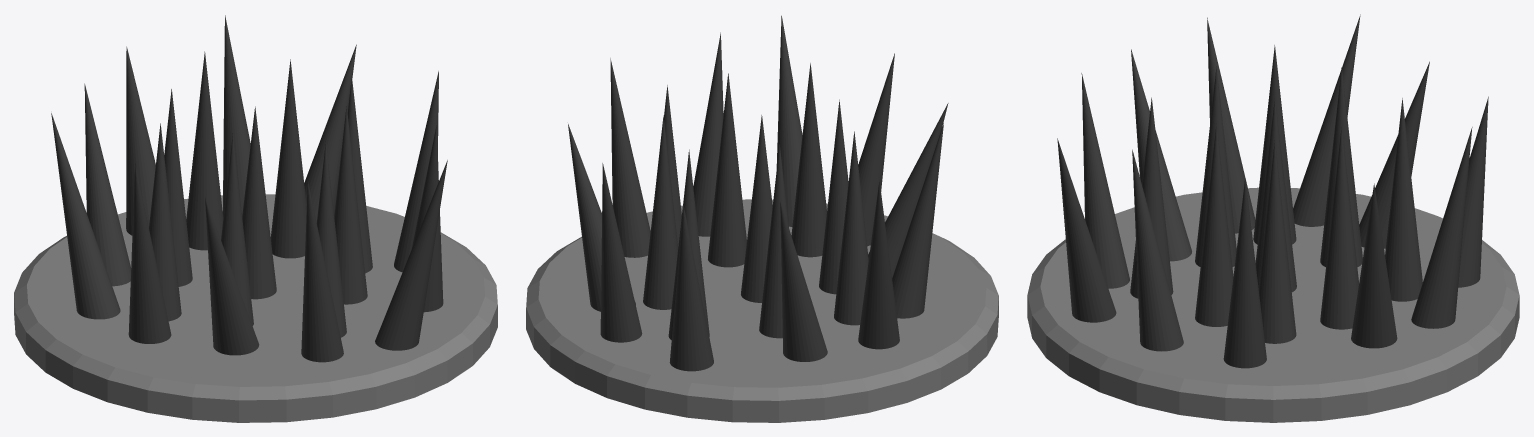
File: Spikes.obj
The picture shows the model from 3 angles, left to right: view 1: azimuth 30°, elevation 25°; view 2: azimuth 150°, elevation 25°; view 3: azimuth 270°, elevation 25°; orthographic projection. The views are drawn at different scales.
Parts seen in each view (by area): view 1: Cube, Cone.016, Cone.013, Cone.012, Cone.014, Cone.015, Cone.004, Cone.003, Cone.005, Cone, Cone.009, Cone.017 (+9 smaller); view 2: Cube, Cone.009, Cone.015, Cone.019, Cone.007, Cone.018, Cone.017, Cone.012, Cone.004, Cone.002, Cone.016, Cone (+9 smaller); view 3: Cube, Cone.018, Cone.008, Cone.012, Cone.009, Cone.019, Cone.005, Cone.013, Cone.001, Cone.014, Cone.006, Cone.016 (+9 smaller).
Boxes of the visible parts, bbox=[...] form: Cube: bbox=[14, 194, 497, 422]; Cone.016: bbox=[51, 113, 120, 319]; Cone.013: bbox=[375, 160, 447, 350]; Cone.012: bbox=[270, 59, 306, 258]; Cone.014: bbox=[301, 181, 343, 362]; Cone.015: bbox=[128, 163, 171, 343]; Cone.004: bbox=[84, 83, 131, 286]; Cone.003: bbox=[205, 197, 259, 355]; Cone.005: bbox=[186, 51, 223, 250]; Cone: bbox=[242, 106, 276, 299]; Cone.009: bbox=[334, 106, 367, 304]; Cone.017: bbox=[126, 46, 155, 235]; Cube: bbox=[526, 199, 998, 422]; Cone.009: bbox=[708, 73, 746, 267]; Cone.015: bbox=[892, 123, 943, 318]; Cone.019: bbox=[610, 58, 650, 257]; Cone.007: bbox=[791, 63, 826, 257]; Cone.018: bbox=[600, 163, 642, 342]; Cone.017: bbox=[669, 204, 713, 371]; Cone.012: bbox=[643, 115, 678, 309]; Cone.004: bbox=[780, 201, 827, 361]; Cone.002: bbox=[834, 131, 868, 325]; Cone.016: bbox=[858, 180, 899, 349]; Cone: bbox=[741, 115, 772, 302]; Cube: bbox=[1027, 187, 1519, 422]; Cone.018: bbox=[1411, 127, 1472, 328]; Cone.008: bbox=[1132, 149, 1183, 351]; Cone.012: bbox=[1320, 126, 1358, 329]; Cone.009: bbox=[1195, 123, 1233, 326]; Cone.019: bbox=[1223, 178, 1266, 368]; Cone.005: bbox=[1385, 98, 1422, 301]; Cone.013: bbox=[1057, 138, 1116, 322]; Cone.001: bbox=[1258, 140, 1296, 343]; Cone.014: bbox=[1081, 73, 1129, 288]; Cone.006: bbox=[1351, 183, 1397, 348]; Cone.016: bbox=[1293, 14, 1360, 226].
Size of the model in its own units: 0.8086 by 0.4068 by 0.8006.
Materials: 2 (2 with a texture image).
